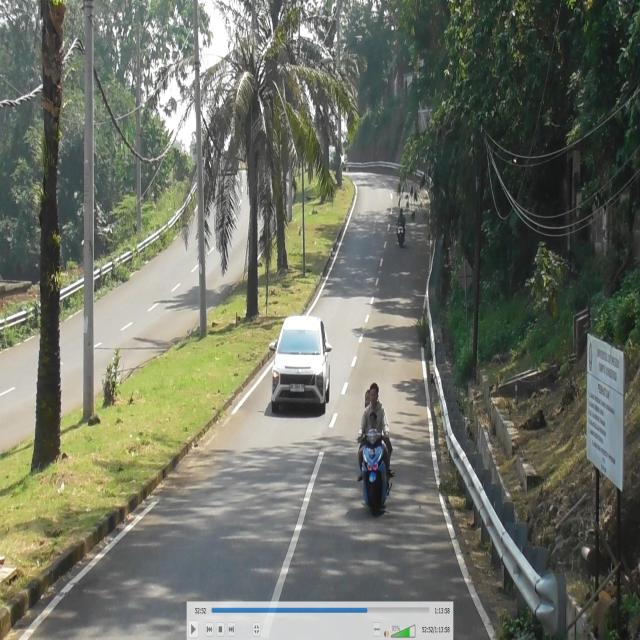motorcycle: (360, 430, 390, 512), (396, 219, 406, 247)
person: (357, 384, 388, 440), (366, 412, 380, 432), (363, 388, 372, 408), (397, 208, 406, 224)
rider_region: (358, 382, 392, 517), (395, 205, 408, 250)
